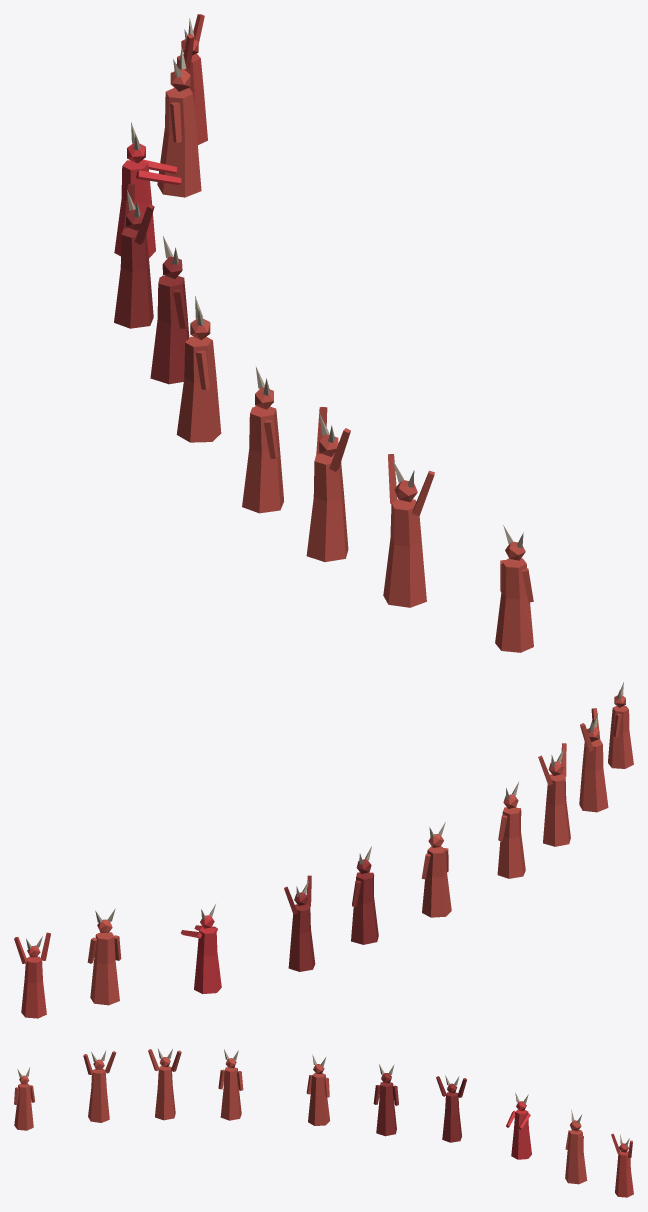
The model's file is Stands_6_0_2_Ice.obj.
3 renders of one model, top to bottom at view 1: azimuth 30°, elevation 25°; view 2: azimuth 150°, elevation 25°; view 3: azimuth 270°, elevation 25°, orthographic. The views are drawn at different scales.
Visible parts, largest first — view 1: Stands_6_0_2_Ice; view 2: Stands_6_0_2_Ice; view 3: Stands_6_0_2_Ice.
Part boxes in pixels (x1,y1,x2,y2): Stands_6_0_2_Ice: (114,14,533,652); Stands_6_0_2_Ice: (14,682,633,1018); Stands_6_0_2_Ice: (14,1048,633,1197).
Bounding box in the file's own units: 11.26 × 4.04 × 33.4.
1 material, 1 textured.
